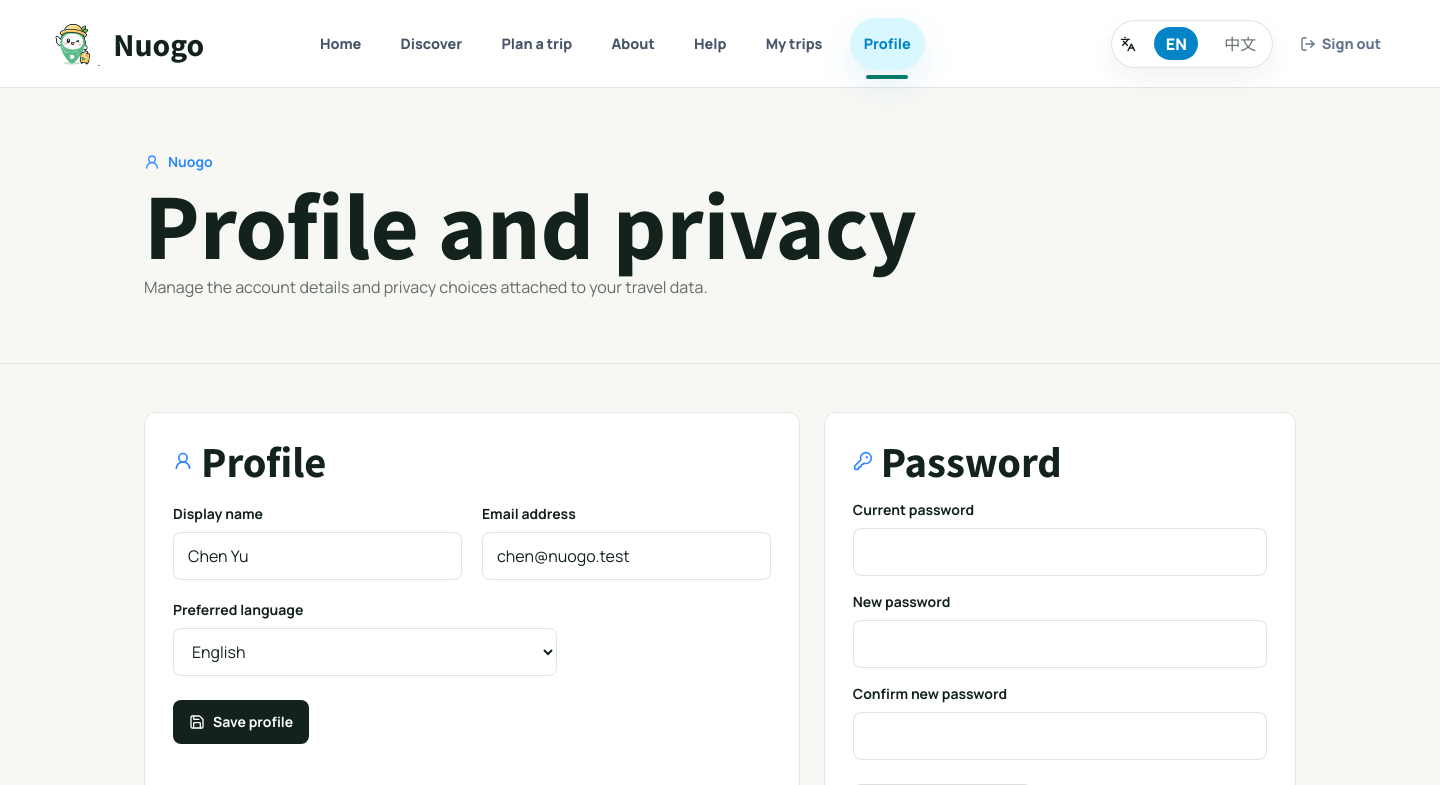
Test case: ProfilePage › loads and updates the supported profile fields
This screenshot has width=1440, height=785.
Expected: the heading "Profile and privacy" is shown, [144,163,917,283]
Replace the text in the field labelled "Display name" with "Chen Yuxin" at (317, 556), box [173,532,462,580]
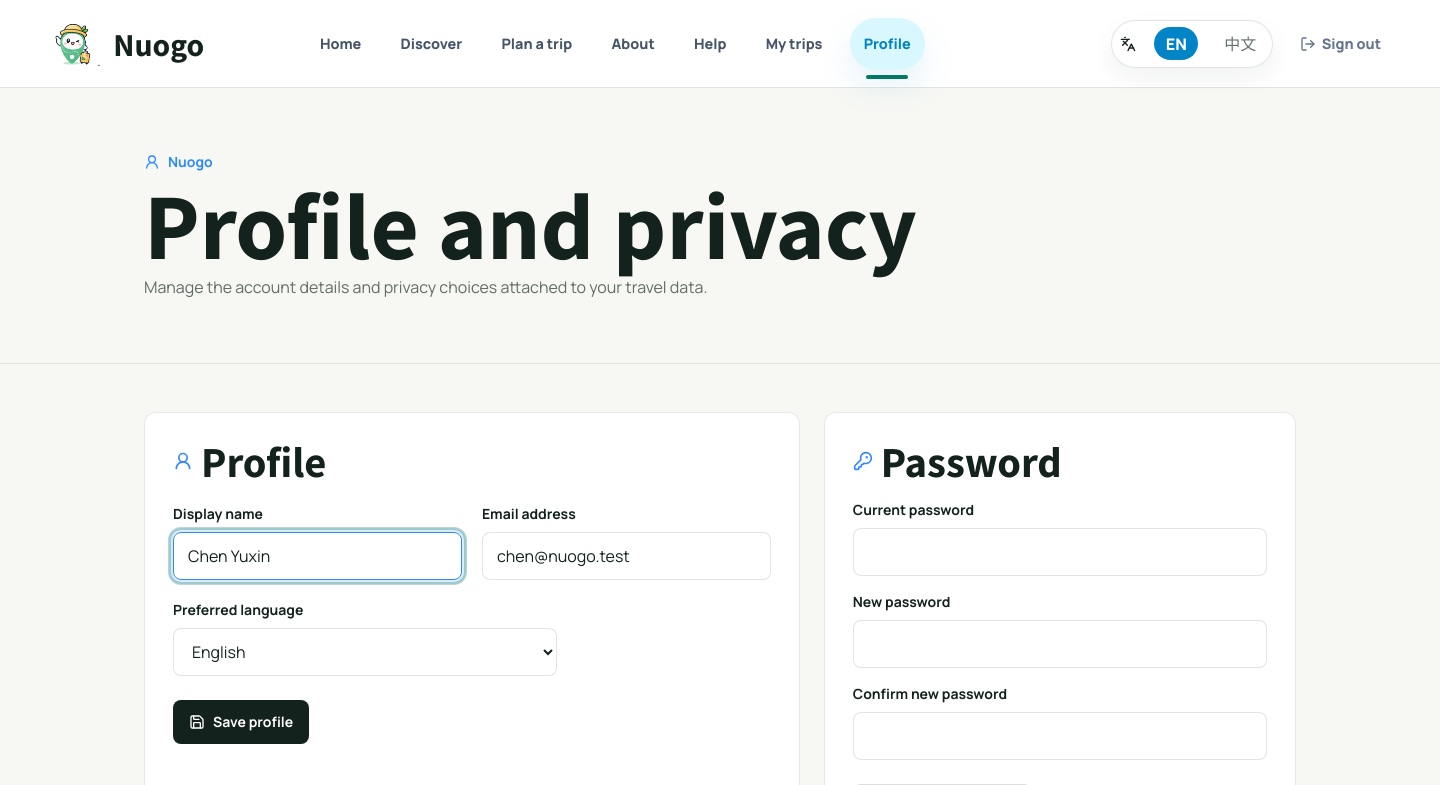
Click the button "Save profile" at (241, 722), box [173,700,309,744]
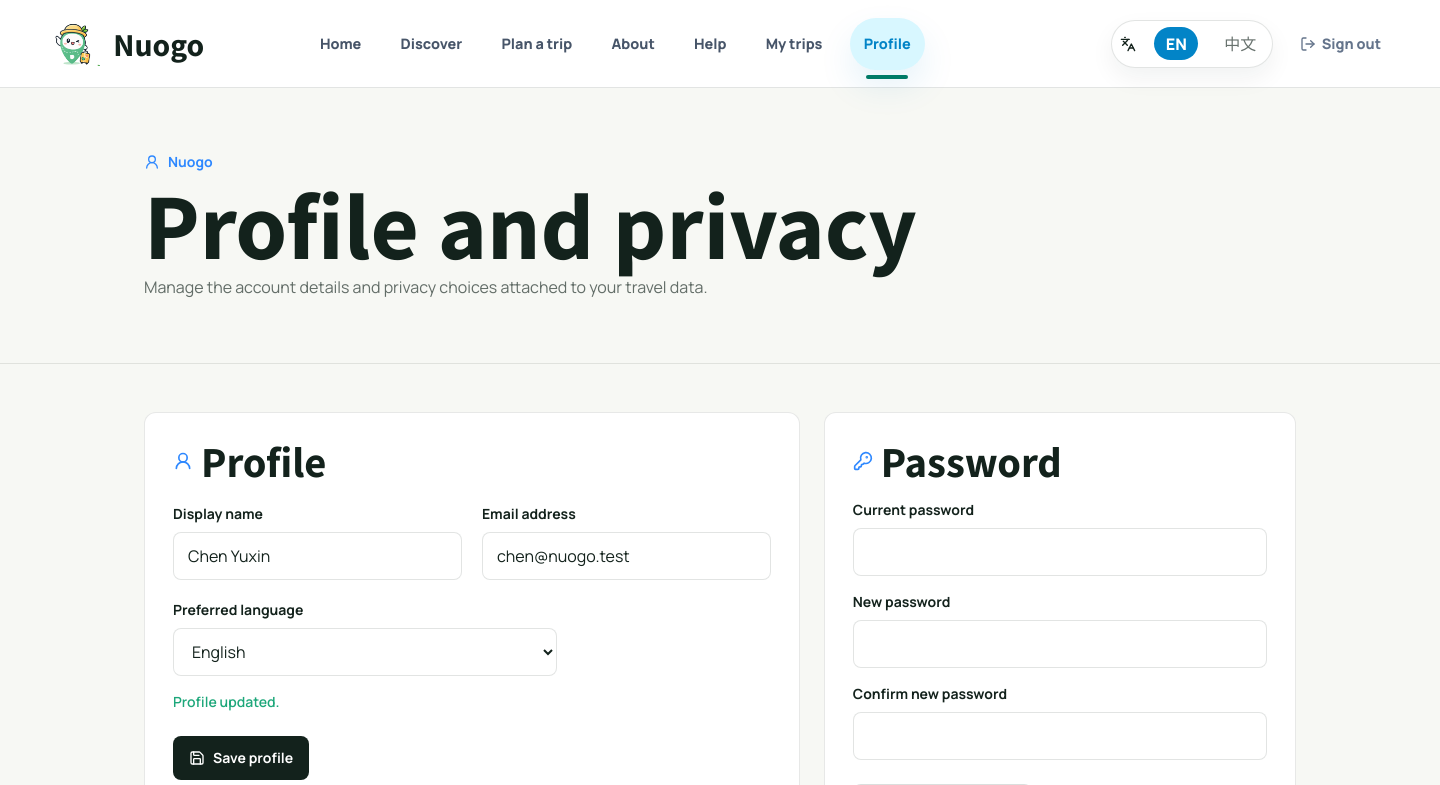
Result: the message reads "Profile updated." at [173,692,280,711]
